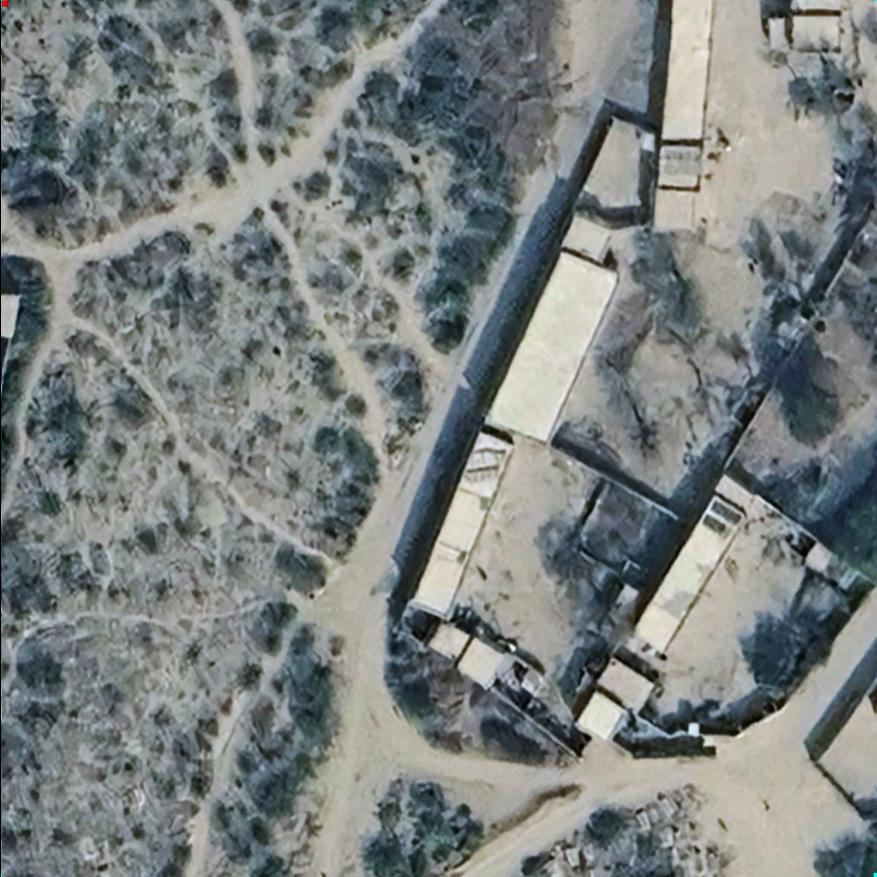Solarpanel: (707, 497, 744, 528), (697, 509, 728, 539)
